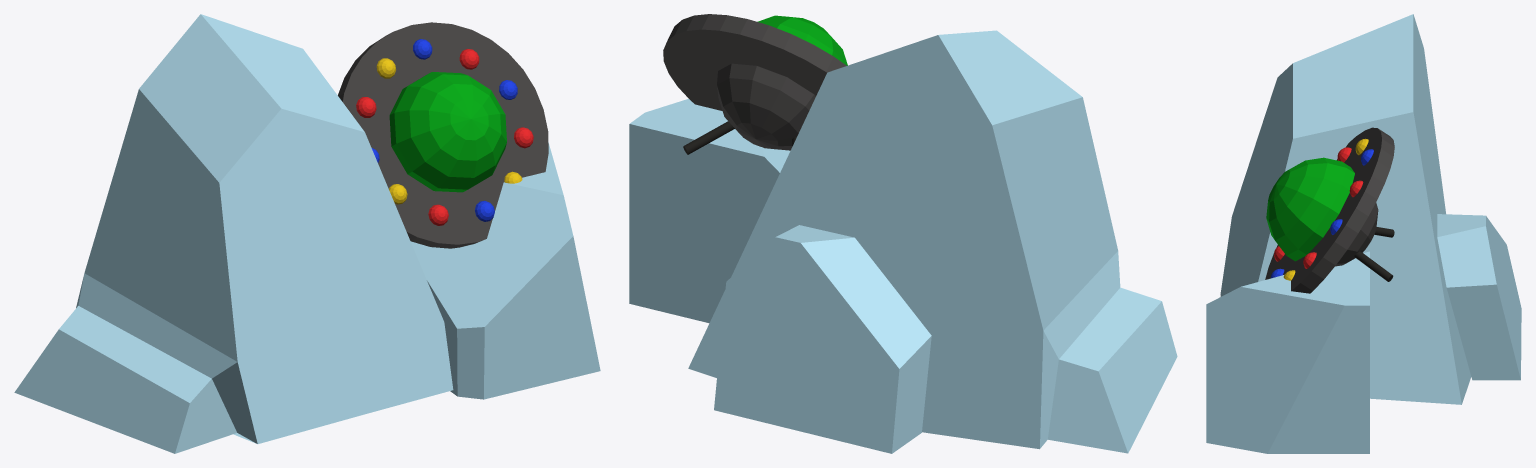
The model's file is NaveEspacialGelo.fbx.
The picture shows the model from 3 angles, left to right: view 1: azimuth 30°, elevation 25°; view 2: azimuth 150°, elevation 25°; view 3: azimuth 270°, elevation 25°; orthographic projection. The views are drawn at different scales.
Visible parts, largest first — view 1: Cube, Cylinder, Cube.002; view 2: Cube, Cube.002, Cylinder, Cylinder.003; view 3: Cube, Cube.002, Cylinder, Cylinder.003.
Part boxes in pixels (box(x1,y1,x2,y2)): Cube: box(14, 14, 453, 453); Cylinder: box(338, 22, 548, 248); Cube.002: box(410, 142, 600, 399); Cube: box(688, 30, 1177, 453); Cube.002: box(629, 98, 790, 323); Cylinder: box(663, 14, 847, 150); Cylinder.003: box(683, 121, 734, 154); Cube: box(1220, 14, 1521, 404); Cube.002: box(1206, 251, 1369, 453); Cylinder: box(1265, 127, 1394, 293); Cylinder.003: box(1354, 251, 1393, 281).
Bounding box in the file's own units: 278 × 185 × 174.
